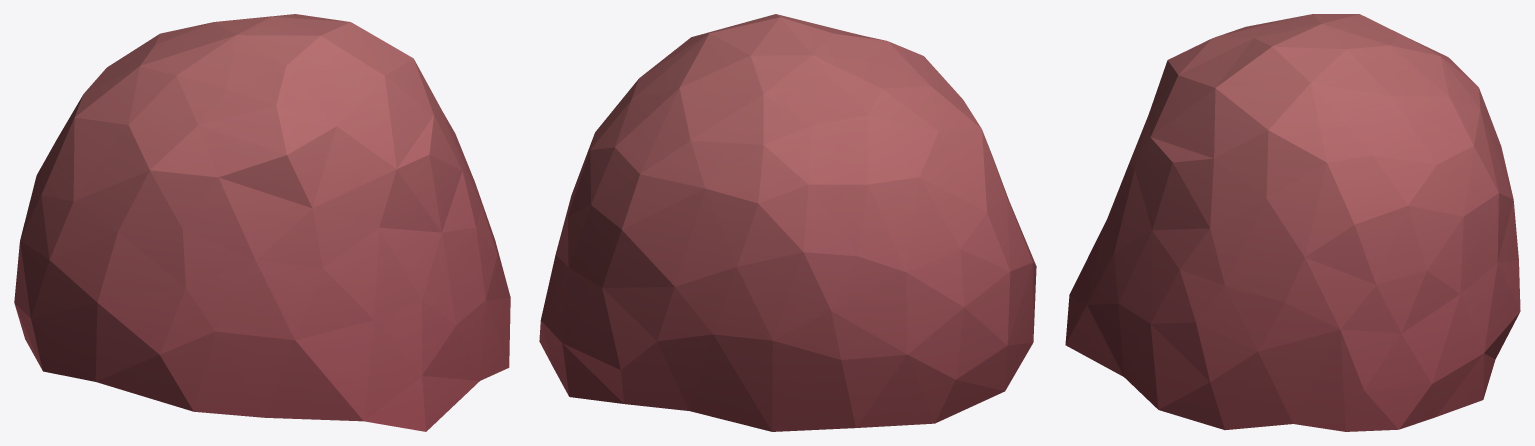
The model's file is Top_03.fbx.
The picture shows the model from 3 angles, left to right: view 1: azimuth 30°, elevation 25°; view 2: azimuth 150°, elevation 25°; view 3: azimuth 270°, elevation 25°; orthographic projection. The views are drawn at different scales.
Parts seen in each view (by area): view 1: pSphere5; view 2: pSphere5; view 3: pSphere5.
Part boxes in pixels (x1,y1,x2,y2): pSphere5: (14,14,510,431); pSphere5: (539,14,1036,431); pSphere5: (1065,14,1520,431).
Size of the model in its own units: 2.46 by 1.73 by 2.31.
